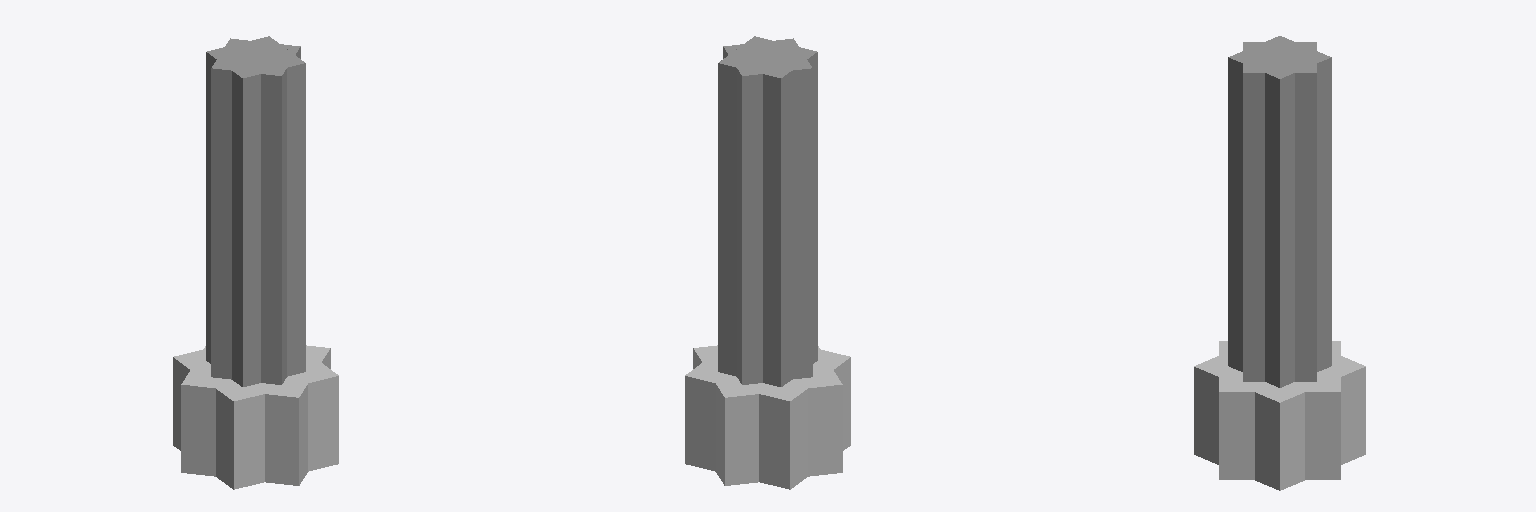
The model's file is rotaryshaftjoint.obj.
3 views of the same model, side by side, from view 1: azimuth 30°, elevation 25°; view 2: azimuth 150°, elevation 25°; view 3: azimuth 270°, elevation 25° (orthographic).
Parts seen in each view (by area): view 1: shaft45_Cube.002, shaft45.003_Cube.030; view 2: shaft45_Cube.002, shaft45.003_Cube.030; view 3: shaft45_Cube.002, shaft45.003_Cube.030.
Part boxes in pixels (x1,y1,x2,y2): shaft45_Cube.002: (206,36,305,386); shaft45.003_Cube.030: (173,345,338,489); shaft45_Cube.002: (718,36,817,386); shaft45.003_Cube.030: (685,345,850,489); shaft45_Cube.002: (1228,36,1331,387); shaft45.003_Cube.030: (1194,341,1365,490).
Size of the model in its own units: 0.4425 by 1.12 by 0.4425.